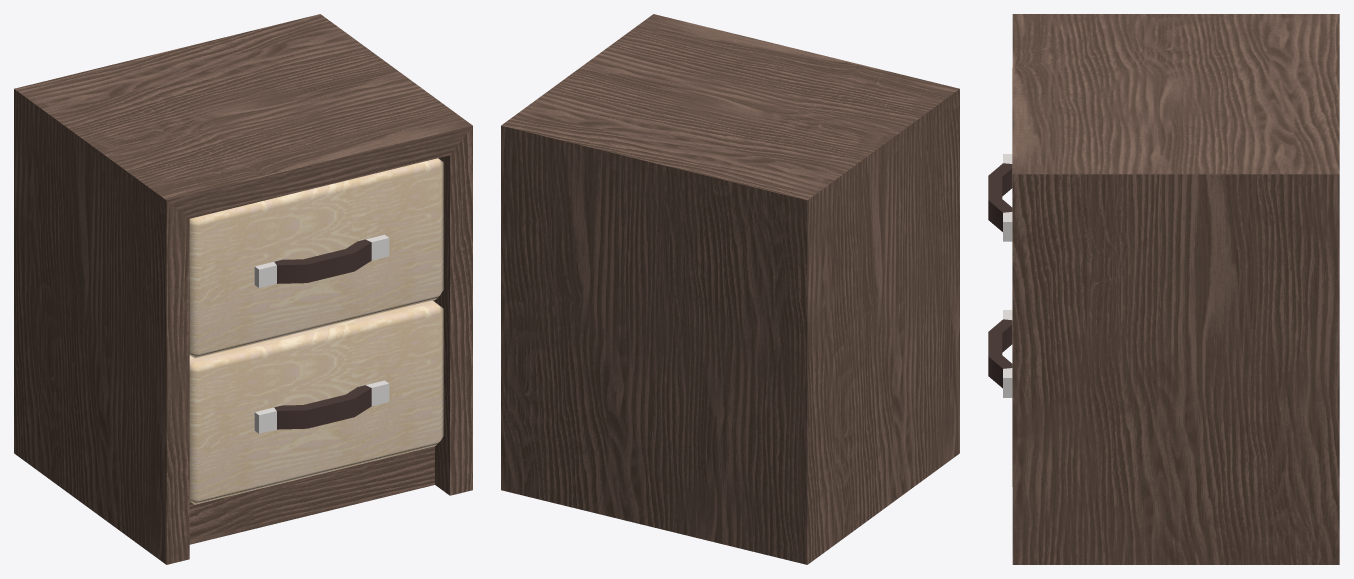
The model's file is dresser_016.fbx.
3 renders of one model, left to right at view 1: azimuth 30°, elevation 25°; view 2: azimuth 150°, elevation 25°; view 3: azimuth 270°, elevation 25°, orthographic. The views are drawn at different scales.
Parts seen in each view (by area): view 1: dresser_016; view 2: dresser_016; view 3: dresser_016.
Boxes of the visible parts, bbox=[...] form: dresser_016: bbox=[14, 14, 472, 564]; dresser_016: bbox=[501, 14, 959, 564]; dresser_016: bbox=[988, 14, 1339, 564].
Bounding box in the file's own units: 62.43 × 57.78 × 70.97.
